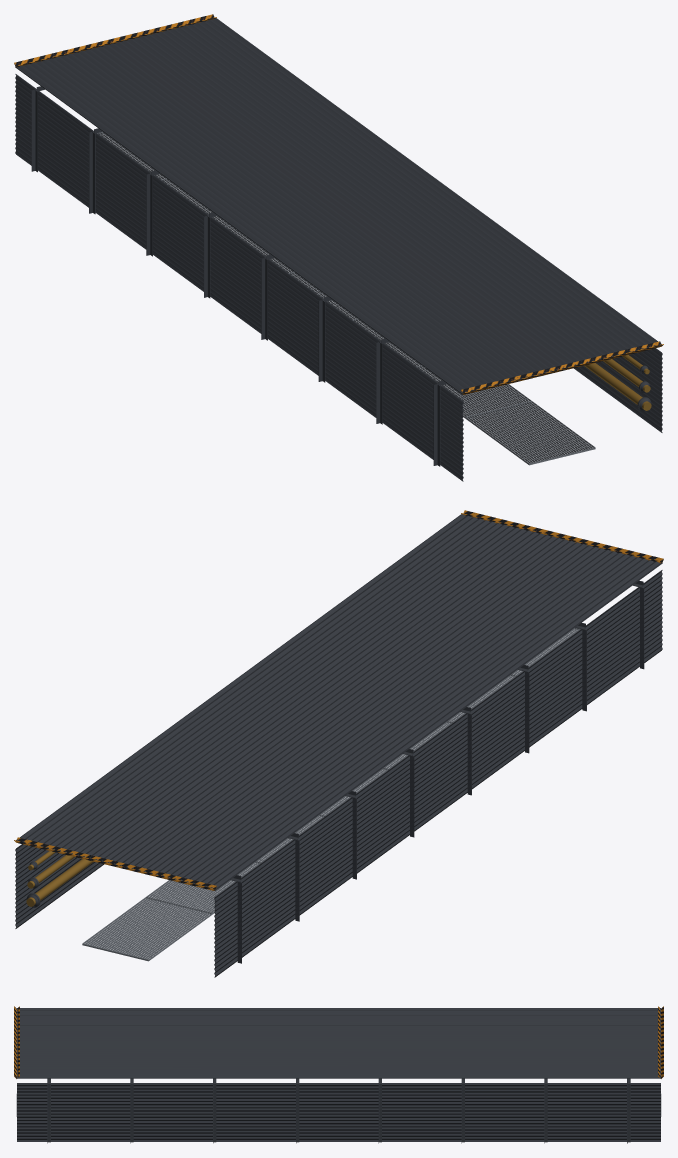
File: foundry_vent_tunnel.glb
3 renders of one model, top to bottom at view 1: azimuth 30°, elevation 25°; view 2: azimuth 150°, elevation 25°; view 3: azimuth 270°, elevation 25°, orthographic. The views are drawn at different scales.
Parts seen in each view (by area): view 1: tunnel_roof, tunnel_wall_n, tunnel_ring_frames, tunnel_floor6, tunnel_wall_p, tunnel_floor5, tunnel_lip_p, tunnel_lip_n, tunnel_pipe0_pipe; view 2: tunnel_roof, tunnel_wall_n, tunnel_floor0, tunnel_ring_frames, tunnel_wall_p, tunnel_floor1, tunnel_lip_n, tunnel_lip_p, tunnel_pipe0_pipe; view 3: tunnel_roof, tunnel_wall_p, tunnel_ring_frames, tunnel_lip_n, tunnel_lip_p.
Boxes of the visible parts, x1,y1,x2,y2 form: tunnel_roof: (15, 18, 661, 394); tunnel_wall_n: (15, 74, 463, 481); tunnel_ring_frames: (31, 86, 447, 466); tunnel_floor6: (465, 401, 595, 465); tunnel_wall_p: (574, 348, 662, 432); tunnel_floor5: (416, 365, 531, 417); tunnel_lip_p: (461, 341, 663, 394); tunnel_lip_n: (14, 14, 216, 67); tunnel_pipe0_pipe: (584, 363, 651, 410); tunnel_roof: (16, 514, 662, 890); tunnel_wall_n: (214, 570, 662, 977); tunnel_floor0: (82, 896, 212, 961); tunnel_ring_frames: (230, 580, 644, 963); tunnel_wall_p: (15, 844, 103, 928); tunnel_floor1: (146, 861, 261, 913); tunnel_lip_n: (14, 837, 216, 890); tunnel_lip_p: (461, 510, 663, 563); tunnel_pipe0_pipe: (26, 859, 93, 906); tunnel_roof: (17, 1008, 660, 1078); tunnel_wall_p: (17, 1083, 660, 1141); tunnel_ring_frames: (47, 1078, 630, 1143); tunnel_lip_n: (658, 1006, 663, 1078); tunnel_lip_p: (14, 1006, 19, 1078).
Bounding box in the file's own units: 3.81 × 1.57 × 14.13.
Materials: 6 (1 with a texture image).
